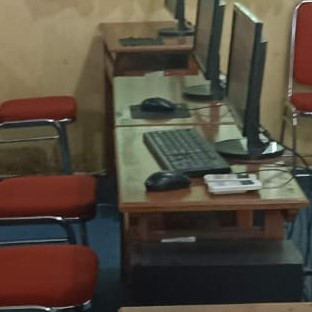monitor: (222, 2, 266, 142), (191, 0, 221, 81)
